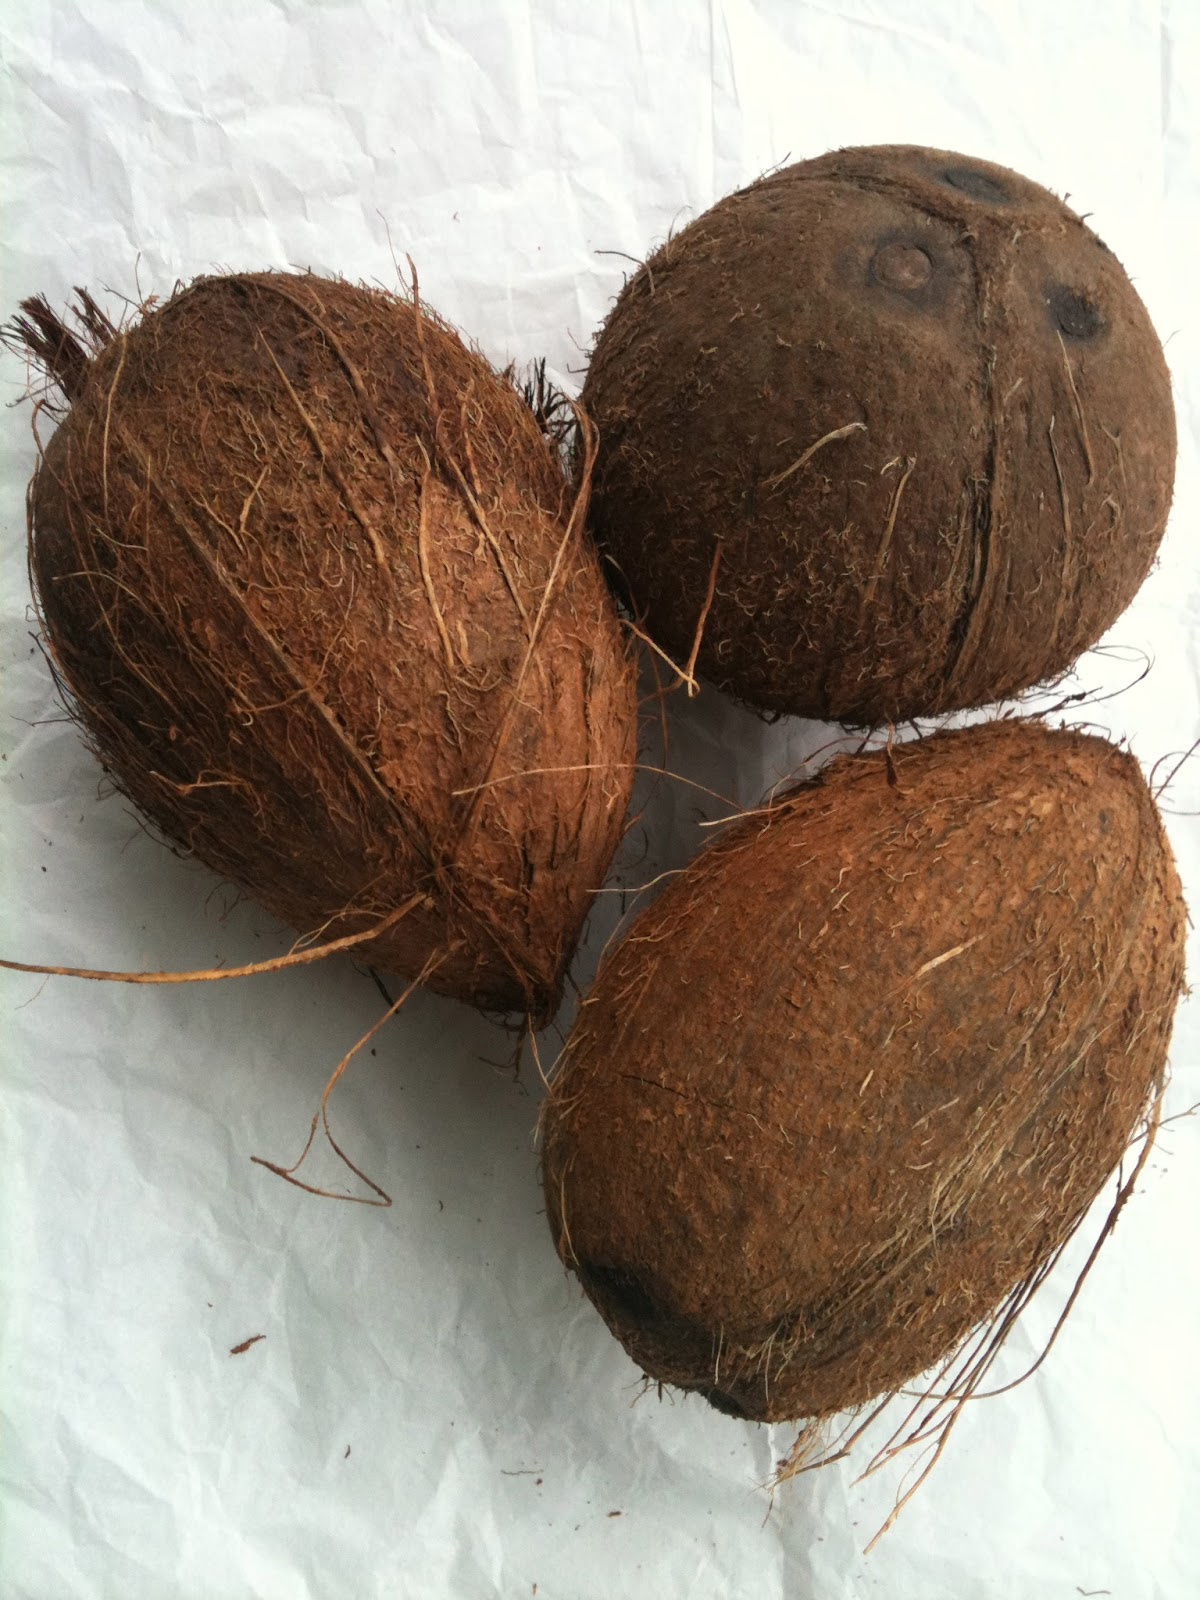coconut: (33, 260, 579, 1042), (582, 716, 1177, 1422), (582, 142, 1179, 700)
